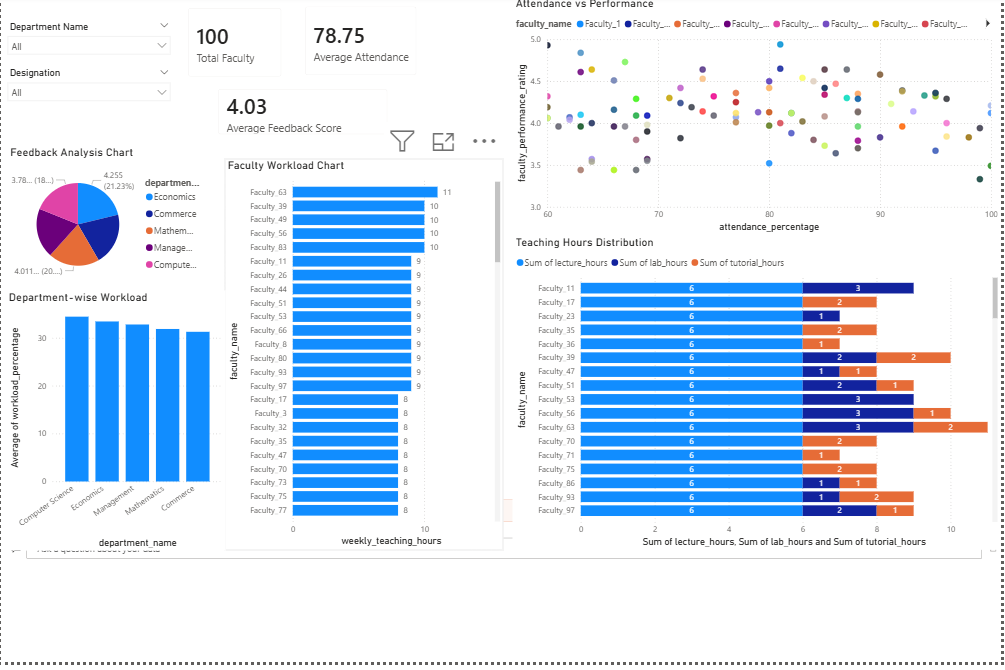

This screenshot's page, from the dashboard's own definition file:
{"tool":"powerbi","page":{"name":"Page 1","canvas":[1500,1000],"ordinal":0},"visuals":[{"type":"qnaVisual","box":[6,752,1494,248],"z":0},{"type":"cardVisual","fields":{"Data":["Avg(Sheet1.student_feedback_score)"]},"box":[309.1,122.6,288.9,102.5],"z":1000},{"type":"cardVisual","fields":{"Data":["CountNonNull(Sheet1.faculty_id)"]},"box":[263.7,1.7,174.7,137.7],"z":2000},{"type":"cardVisual","fields":{"Data":["Avg(Sheet1.attendance_percentage)"]},"box":[438.4,0,201.6,137.7],"z":3000},{"type":"clusteredBarChart","title":"Faculty Workload Chart","fields":{"Category":["Sheet1.faculty_name"],"Y":["Sum(Sheet1.weekly_teaching_hours)"]},"box":[336,246,418,586],"z":4000},{"type":"clusteredColumnChart","title":"Department-wise Workload","fields":{"Category":["Sheet1.department_name"],"Y":["Avg(Sheet1.workload_percentage)"]},"box":[6,442,330,390],"z":5000},{"type":"pieChart","title":"Feedback Analysis Chart","fields":{"Category":["Sheet1.department_name"],"Y":["Avg(Sheet1.student_feedback_score)"]},"box":[10.1,225.1,299,216.7],"z":6000},{"type":"scatterChart","title":"Attendance vs Performance","fields":{"X":["Sheet1.attendance_percentage"],"Y":["Sheet1.faculty_performance_rating"],"Series":["Sheet1.faculty_name"]},"box":[768,2,732,358],"z":7000},{"type":"barChart","title":"Teaching Hours Distribution","fields":{"Category":["Sheet1.faculty_name"],"Y":["Sum(Sheet1.lecture_hours)","Sum(Sheet1.lab_hours)","Sum(Sheet1.tutorial_hours)"]},"box":[768,360,732,472],"z":8000},{"type":"slicer","fields":{"Values":["Sheet1.department_name"]},"box":[0,33.6,263.7,68.9],"z":9000},{"type":"slicer","fields":{"Values":["Sheet1.designation"]},"box":[0,102.5,263.7,97.4],"z":10000}]}

Visuals, with their boxes on the page's 1500x1000 design canvas (x1, y1, x2, y2). These are canvas units, not pixel positions in the 1005x670 screenshot, which may show the page scaled, cropped or inside an application window:
qnaVisual: [x1=6, y1=752, x2=1500, y2=1000]
cardVisual - Avg(Sheet1.student_feedback_score): [x1=309, y1=123, x2=598, y2=225]
cardVisual - CountNonNull(Sheet1.faculty_id): [x1=264, y1=2, x2=438, y2=139]
cardVisual - Avg(Sheet1.attendance_percentage): [x1=438, y1=0, x2=640, y2=138]
"Faculty Workload Chart" clusteredBarChart: [x1=336, y1=246, x2=754, y2=832]
"Department-wise Workload" clusteredColumnChart: [x1=6, y1=442, x2=336, y2=832]
"Feedback Analysis Chart" pieChart: [x1=10, y1=225, x2=309, y2=442]
"Attendance vs Performance" scatterChart: [x1=768, y1=2, x2=1500, y2=360]
"Teaching Hours Distribution" barChart: [x1=768, y1=360, x2=1500, y2=832]
slicer - Sheet1.department_name: [x1=0, y1=34, x2=264, y2=102]
slicer - Sheet1.designation: [x1=0, y1=102, x2=264, y2=200]
